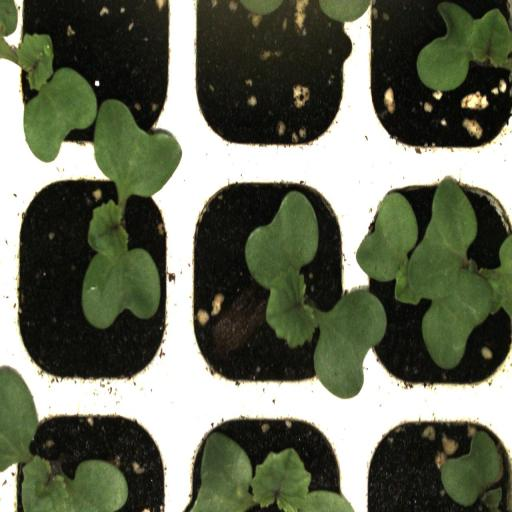seedling: (182, 160, 350, 406), (14, 160, 181, 400), (13, 0, 182, 162)
twoseedling: (355, 162, 512, 404)
